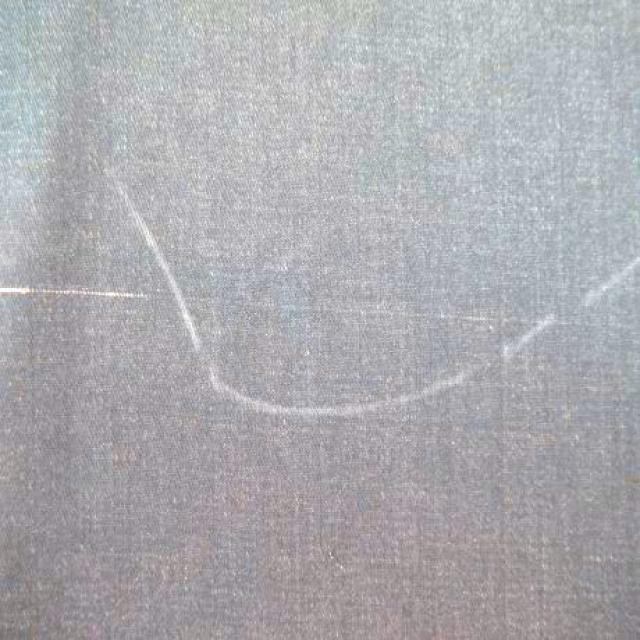stain: (113, 183, 639, 422)
